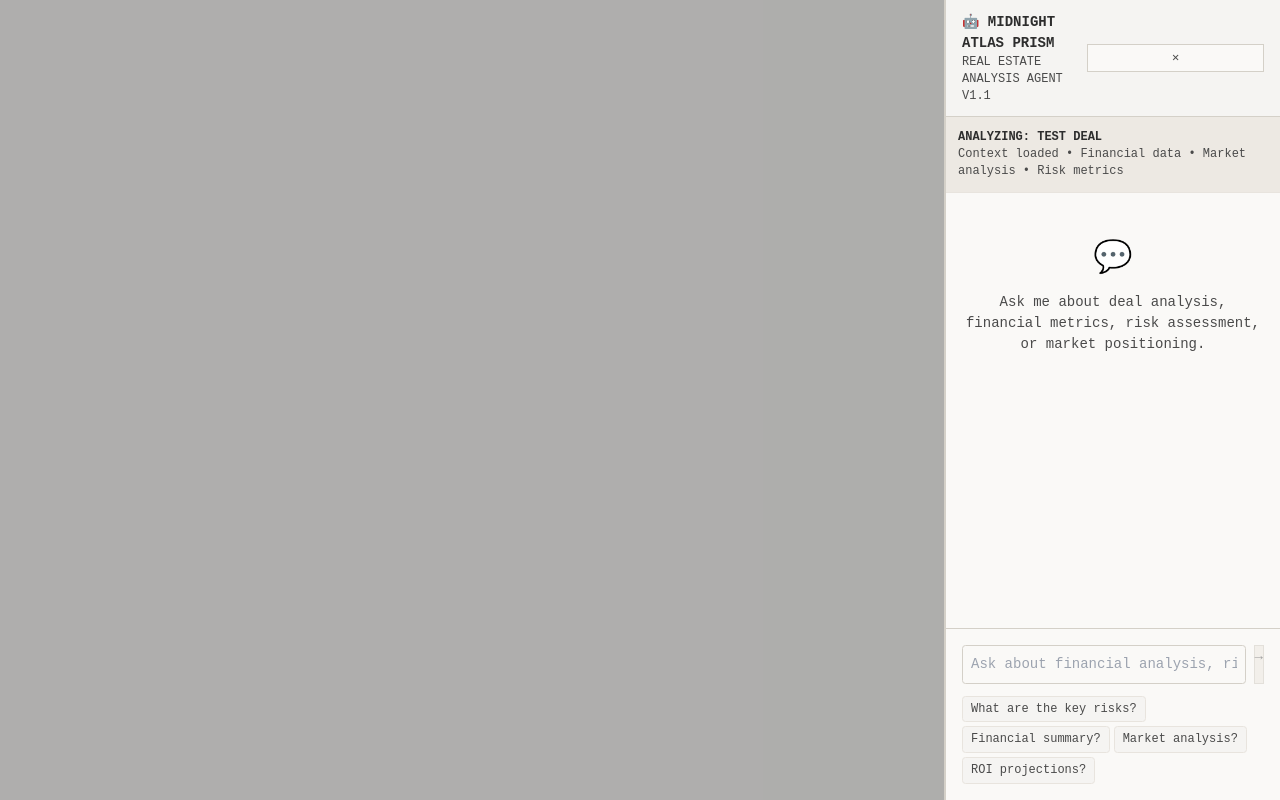
Test: AISidebar › handles API errors gracefully
Type "Test message" into the field with placeholder "Ask about financial analysis, risks, opportunities..." at [1104, 664], box [962,645,1246,684]
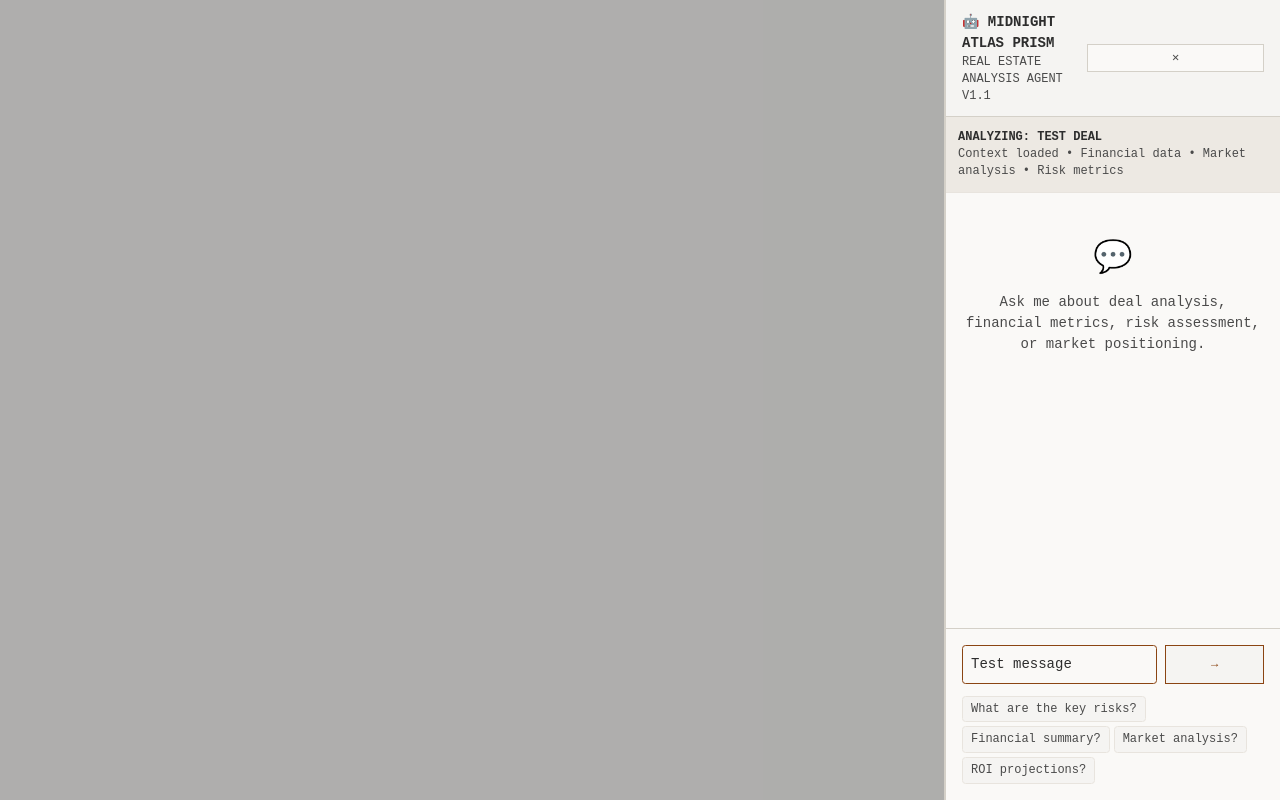
Click the button "→" at [1214, 664], box [1165,645,1264,684]
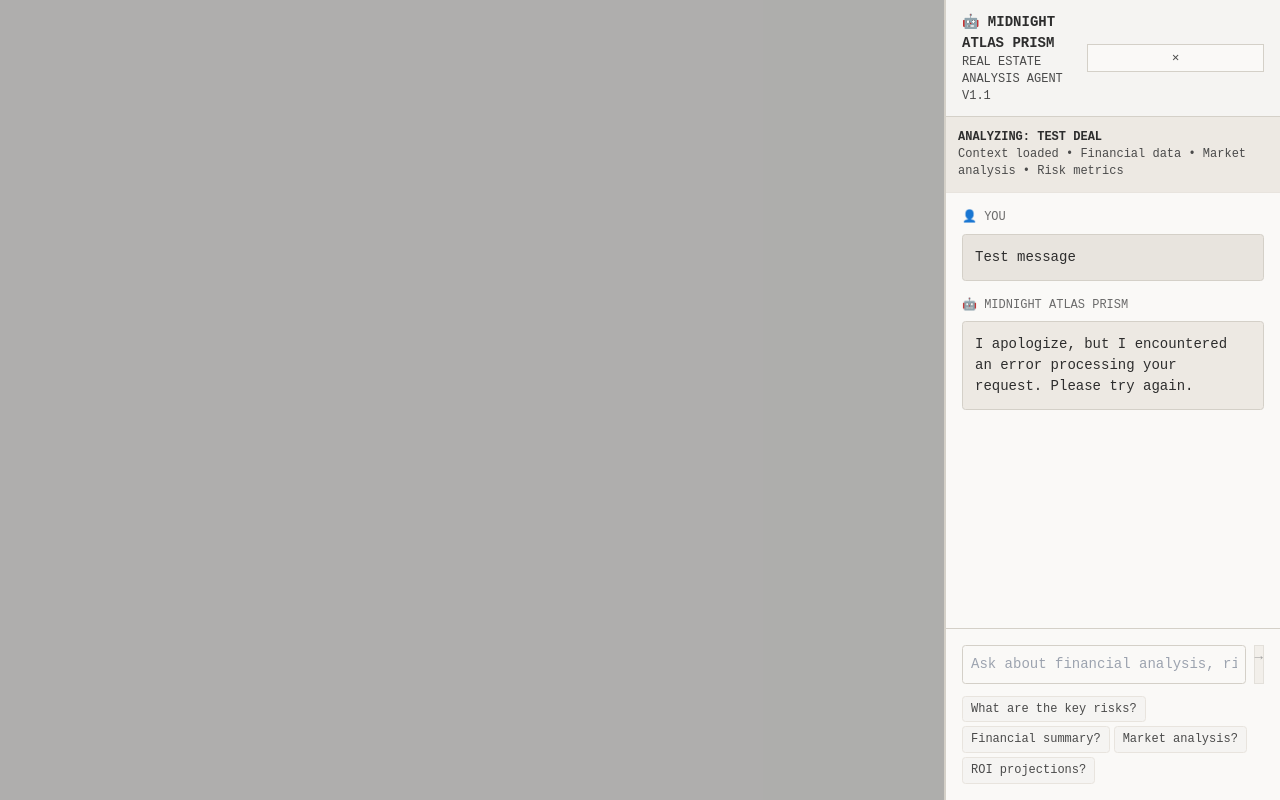
Expected: the text "I apologize, but I encountered an error" is shown, [975,336,1227,394]
